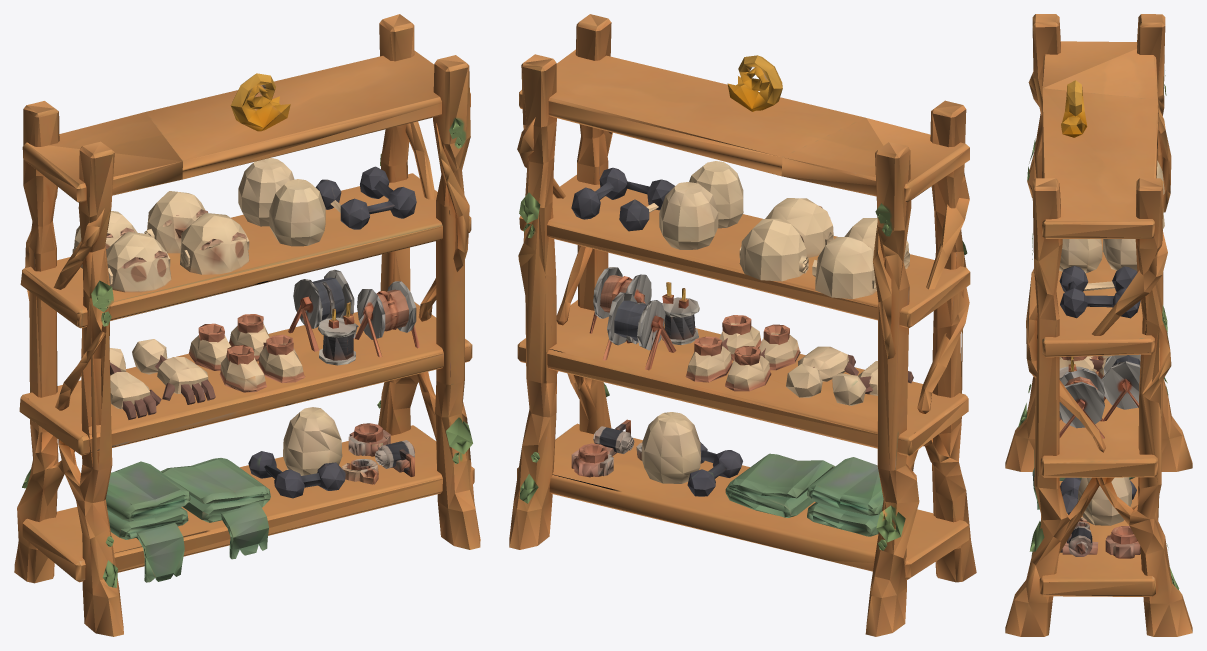
Rendered from etagere.glb.
3 renders of one model, left to right at view 1: azimuth 30°, elevation 25°; view 2: azimuth 150°, elevation 25°; view 3: azimuth 270°, elevation 25°, orthographic. The views are drawn at different scales.
Visible parts, largest first — view 1: Etagere; view 2: Etagere; view 3: Etagere.
Part boxes in pixels (x1=…): Etagere: x1=14, y1=14, x2=480, y2=636; Etagere: x1=509, y1=14, x2=976, y2=636; Etagere: x1=1005, y1=14, x2=1192, y2=636.
Size of the model in its own units: 2.19 by 2.6 by 0.9475.
Materials: 1 (1 with a texture image).
